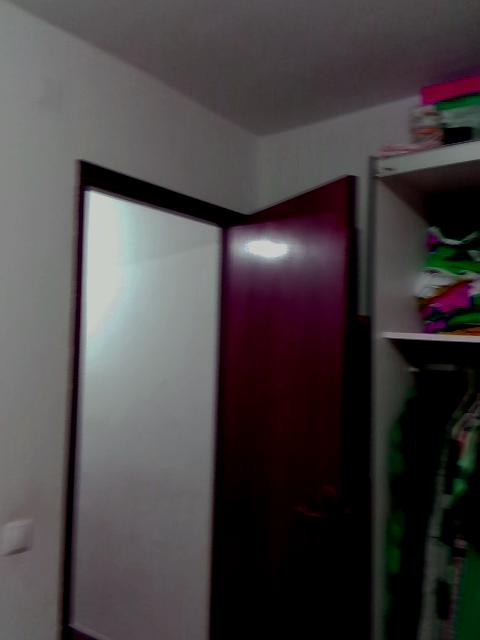open_door: (62, 157, 269, 639)
